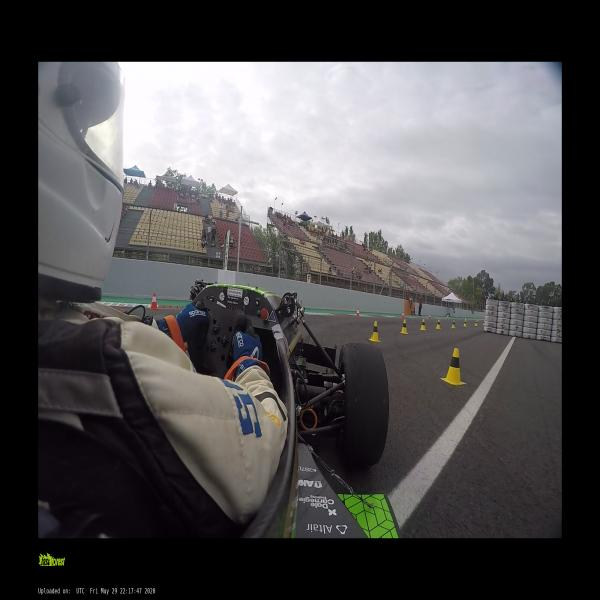orange_cone: (149, 292, 159, 310), (355, 309, 360, 318), (400, 312, 406, 319), (428, 313, 431, 320)
yellow_cone: (441, 348, 464, 387), (367, 322, 382, 342), (399, 318, 408, 336), (419, 318, 426, 331), (435, 319, 441, 329), (450, 320, 456, 329), (462, 320, 467, 328), (474, 320, 477, 326), (483, 320, 485, 326)
